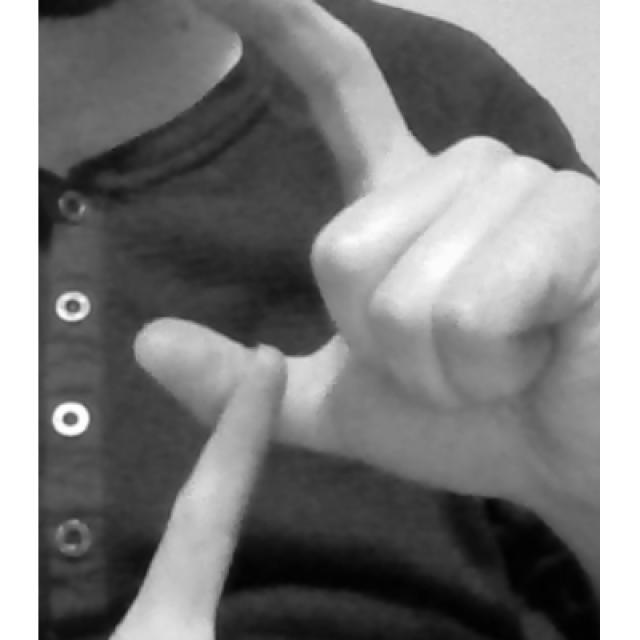C_: (106, 1, 598, 640)
